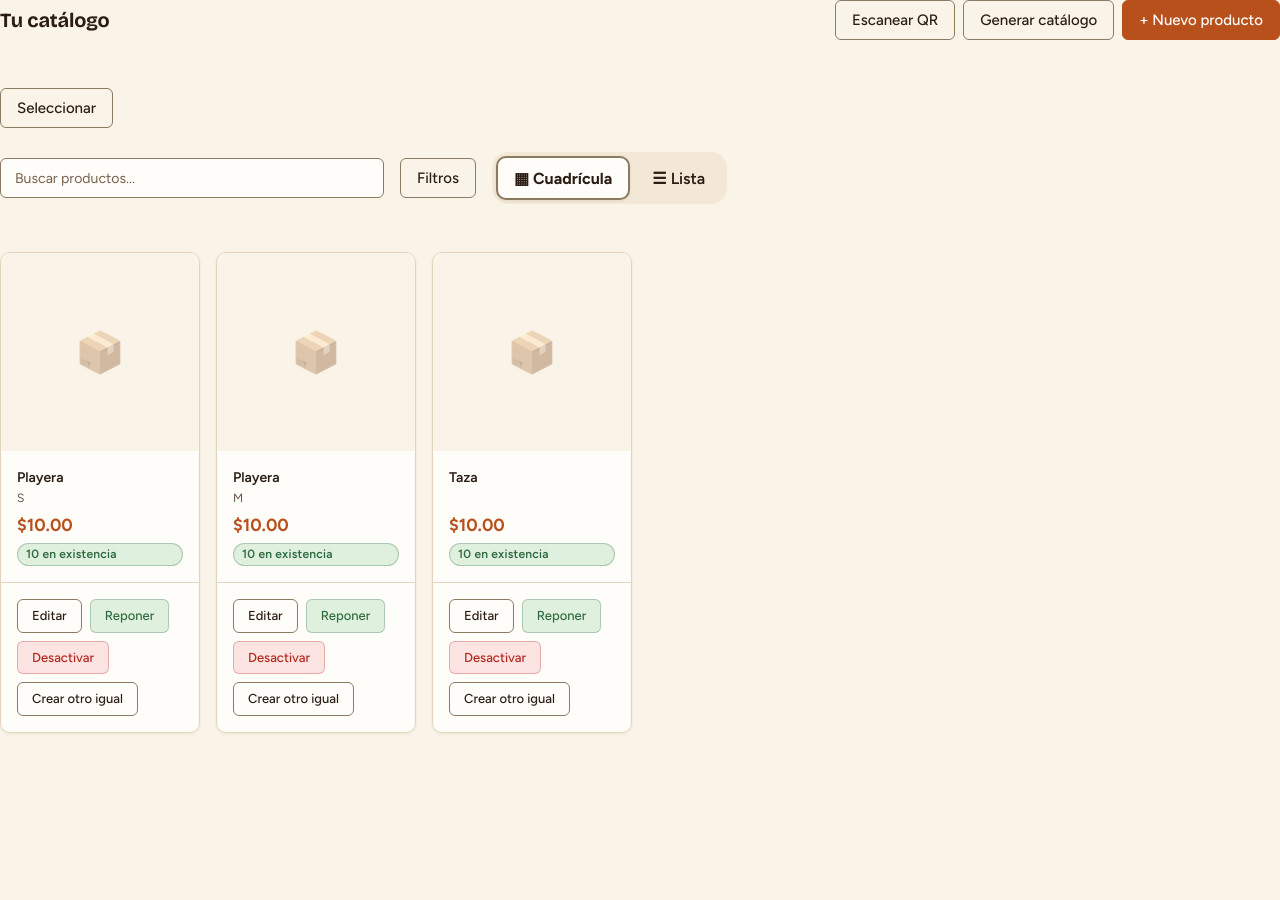
Test: ProductCatalogView — Generar catálogo: flujo › sin internet avisa, no baja productos y no deja generar
Click the button "Generar catálogo". click: (1039, 20)
box: [963,0,1114,40]
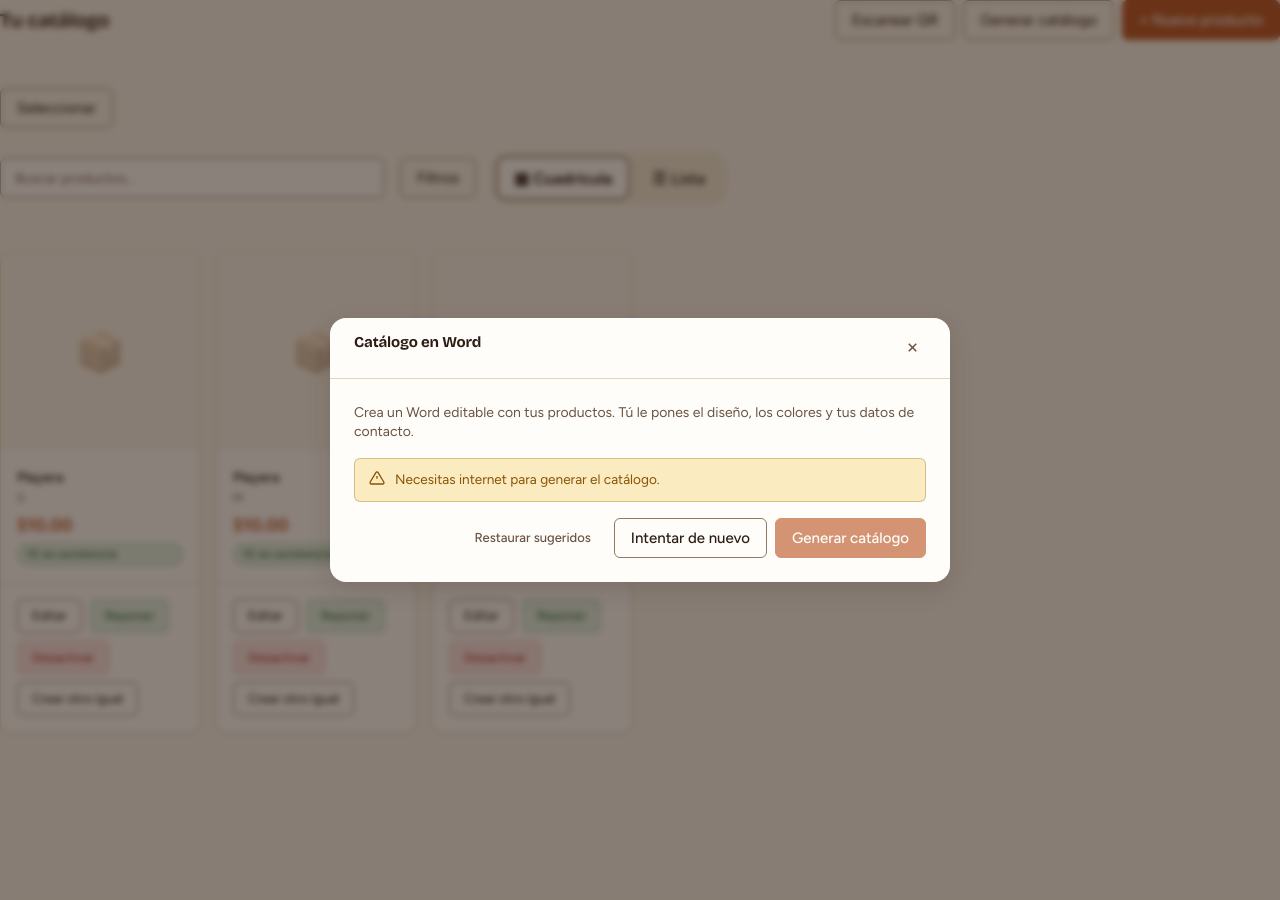
expect the text "Necesitas internet para generar el catálogo." is shown: met, box [395,471,660,487]
